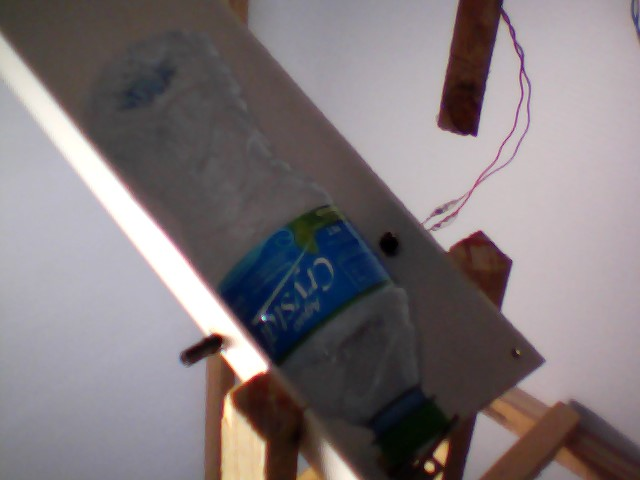plastico: (75, 22, 453, 471)
